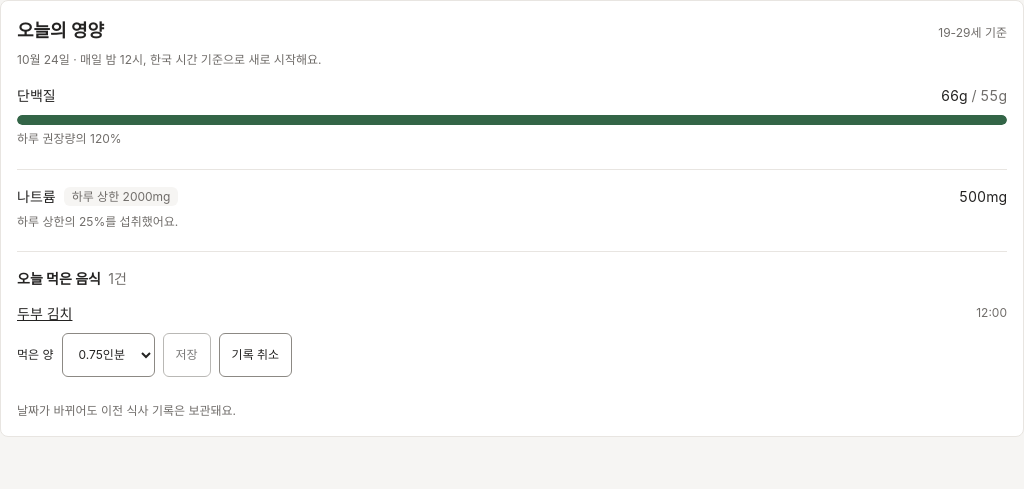
Scenario: 오늘의 영양 › 서버에 저장된 임의 분량을 보존하고 수정 성공 후 합계를 다시 조회한다
Select "1.5인분" in the dropdown labelled "먹은 양" at (108, 355), box [62,333,154,377]
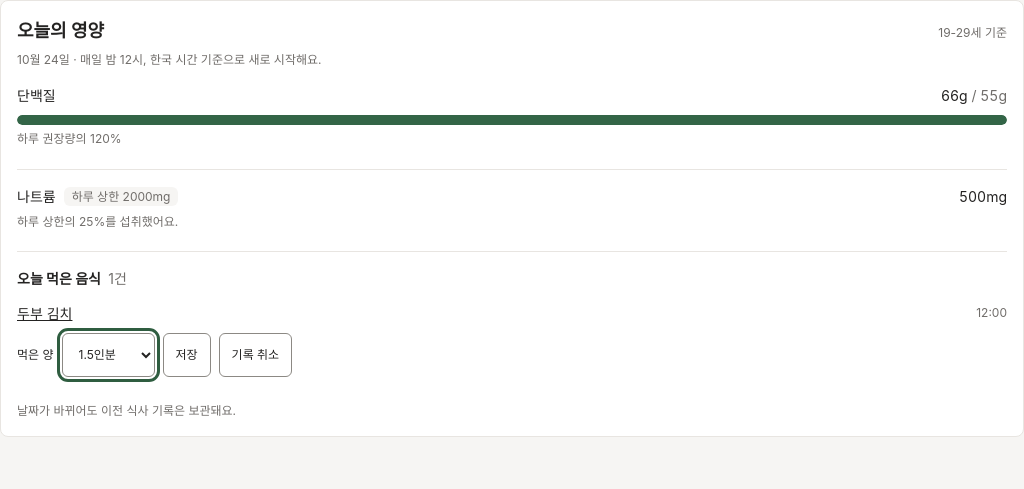
Click the button "저장" at (187, 355), box [162,333,211,377]
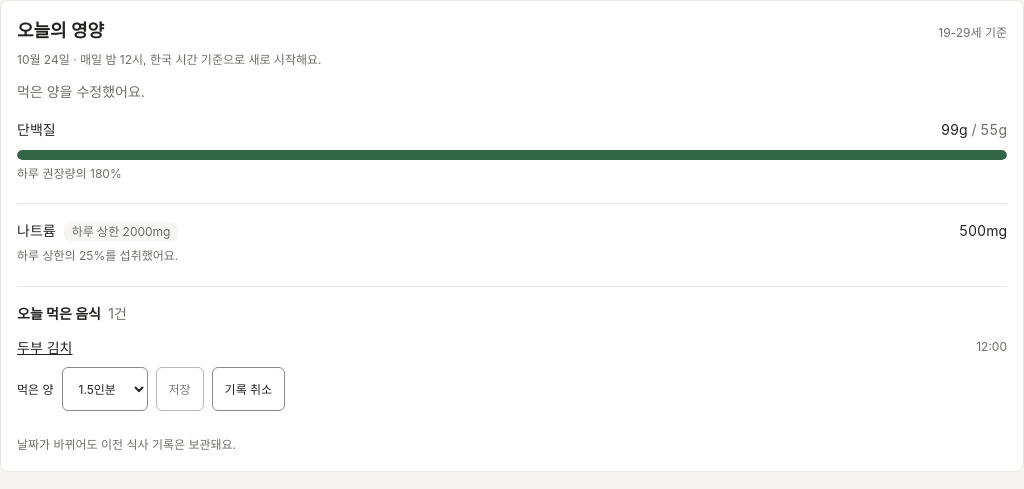
Now the text "하루 권장량의 180%" is shown, box [17,166,122,181]
Now the message reads "먹은 양을 수정했어요.", box [17,83,145,100]
